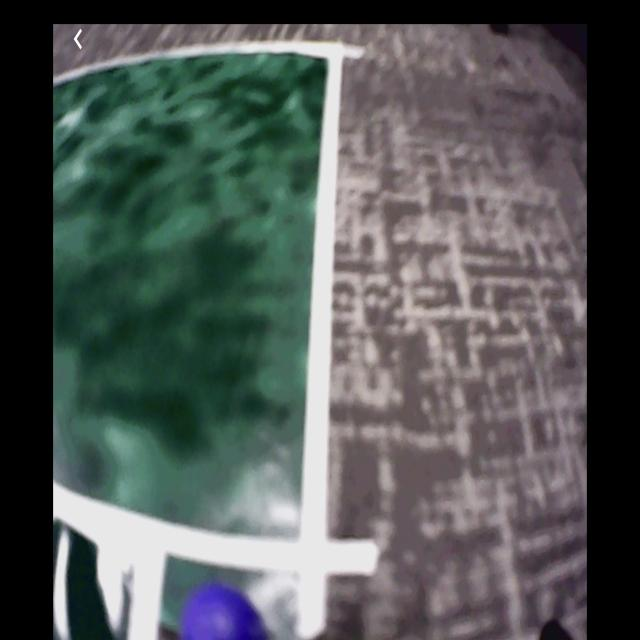ball: (182, 586, 269, 640)
